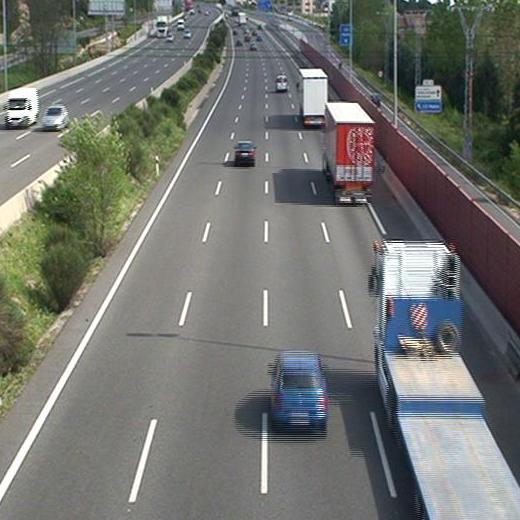car: (268, 353, 329, 432), (232, 141, 256, 163)
truck: (367, 240, 520, 518), (325, 102, 375, 201), (294, 69, 326, 125)
van: (274, 74, 289, 92)
